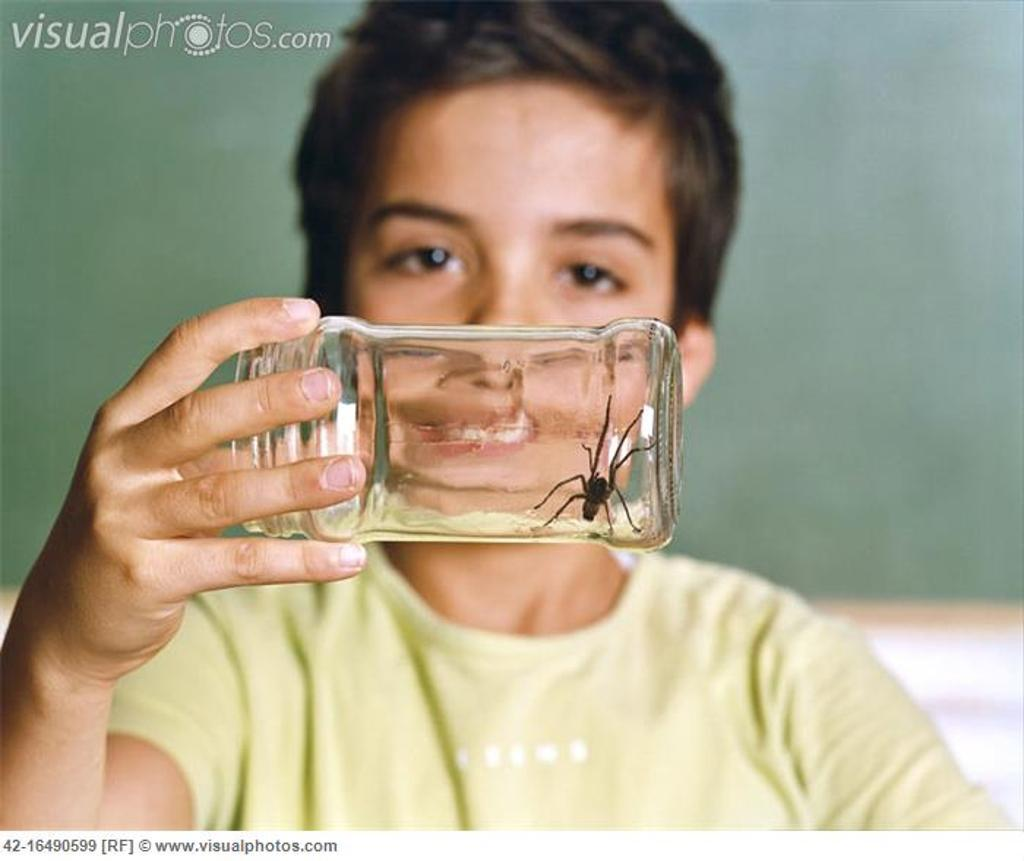face: (357, 105, 667, 523)
